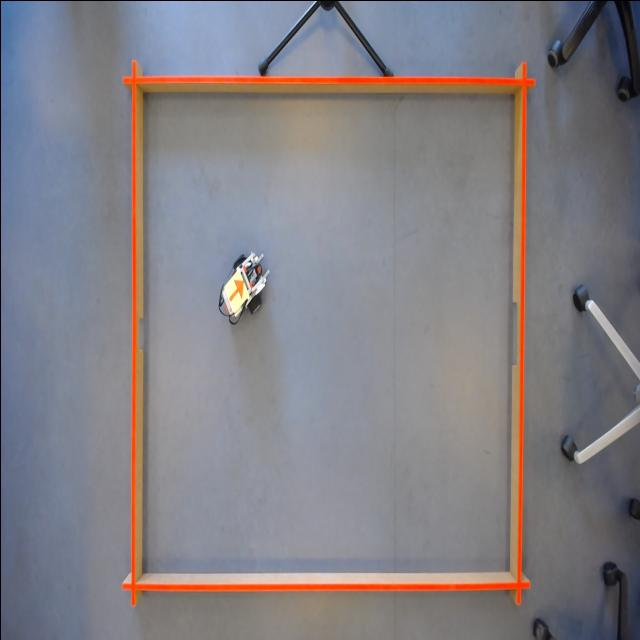robot: (221, 266, 251, 314)
